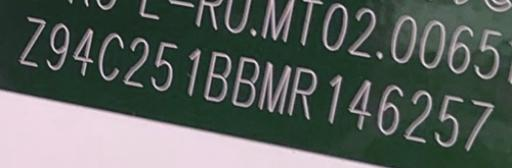letter: (258, 61, 292, 113), (404, 88, 436, 143), (464, 96, 496, 151), (374, 80, 404, 136), (435, 91, 465, 146), (148, 41, 178, 94), (204, 49, 232, 103), (288, 66, 318, 116), (232, 55, 260, 107), (346, 74, 372, 129), (17, 16, 45, 67), (98, 31, 124, 84), (71, 25, 97, 76), (123, 36, 149, 87), (179, 44, 203, 98), (46, 22, 72, 71), (322, 72, 344, 122)
